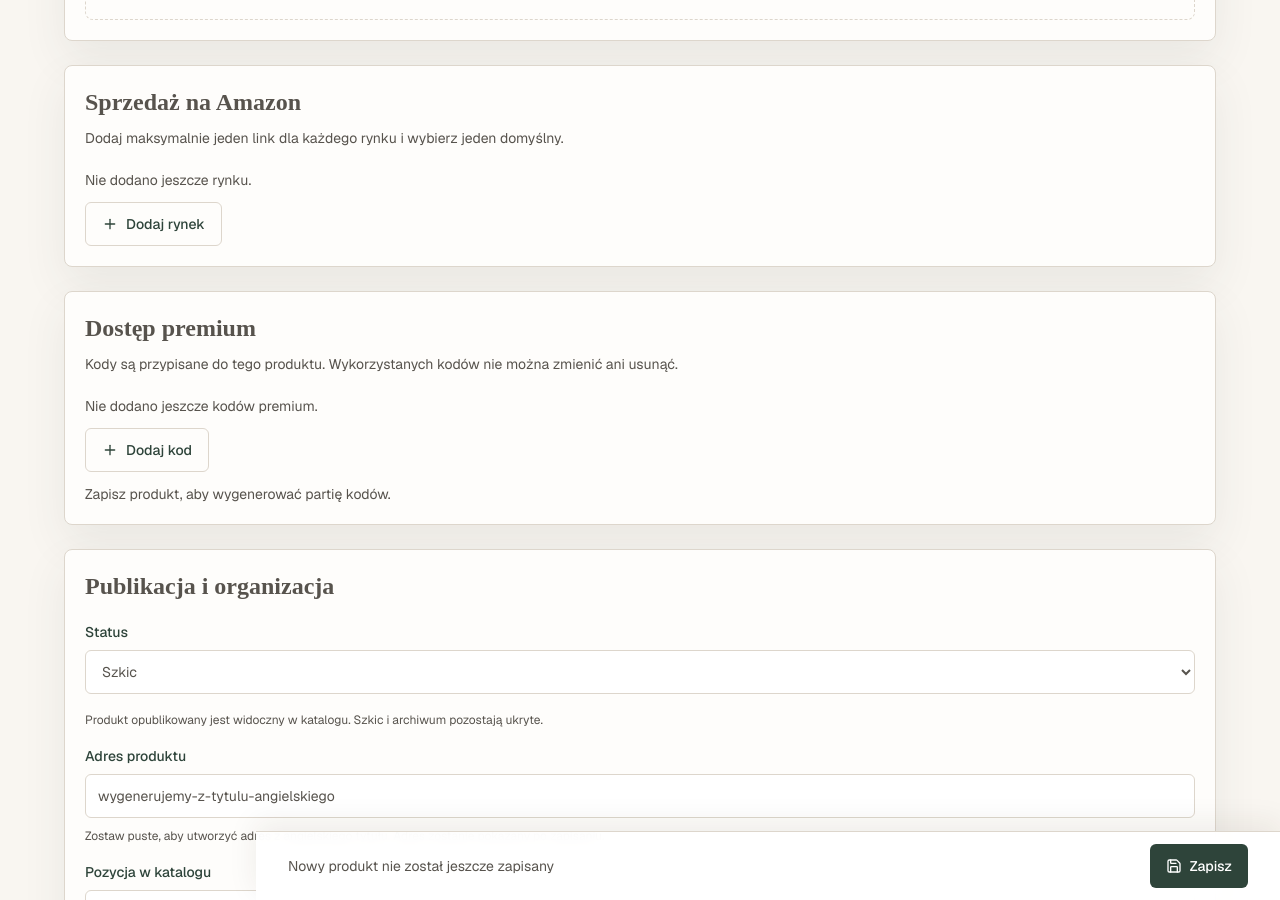
Test: ProductEditor V2 › blocks an empty premium code row before invoking the server action
This screenshot has width=1280, height=900.
(page scrolled)
Click the button "Dodaj kod" at (147,450), box [85, 428, 209, 472]
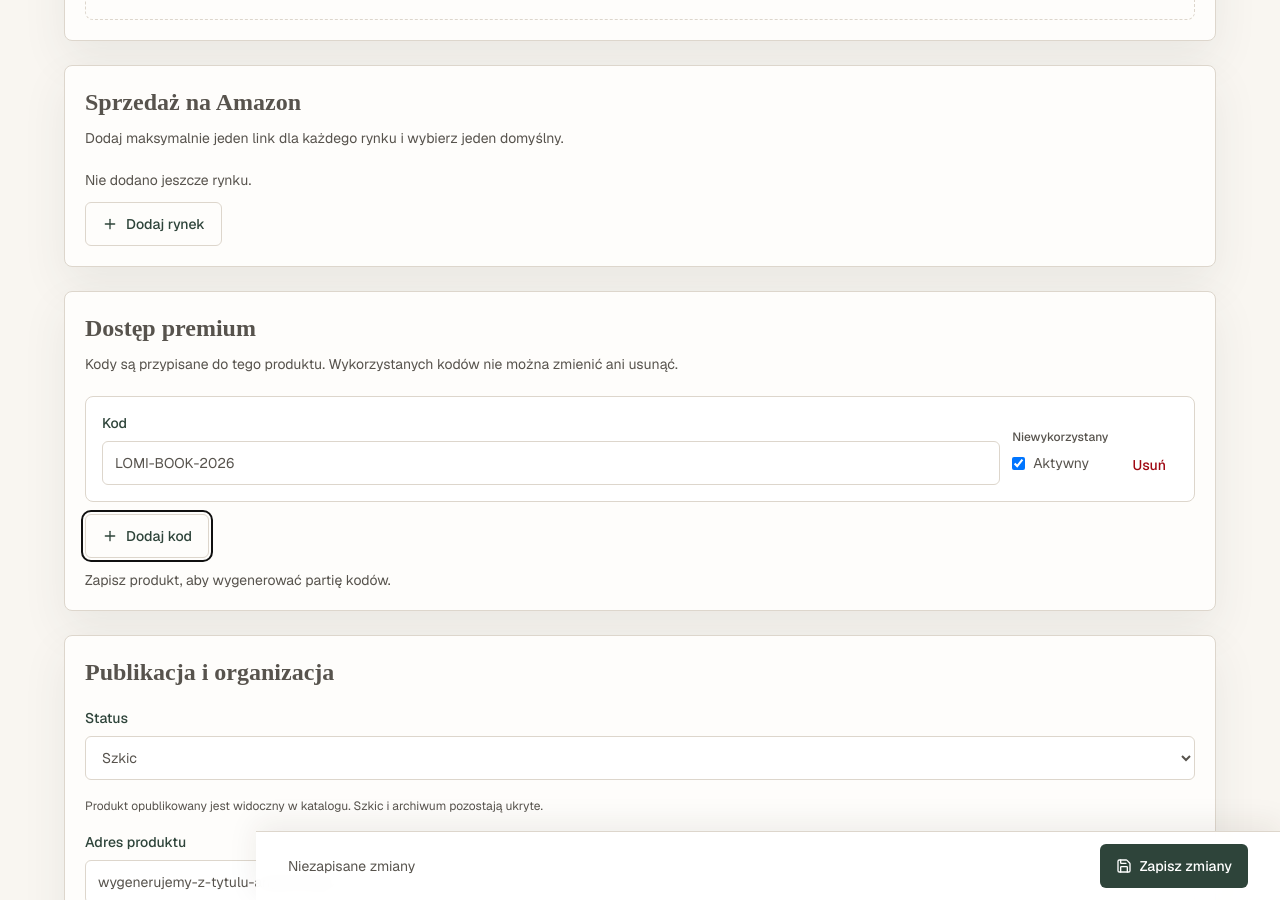
Click the button "Zapisz zmiany" at (1174,866), box [1100, 844, 1248, 888]
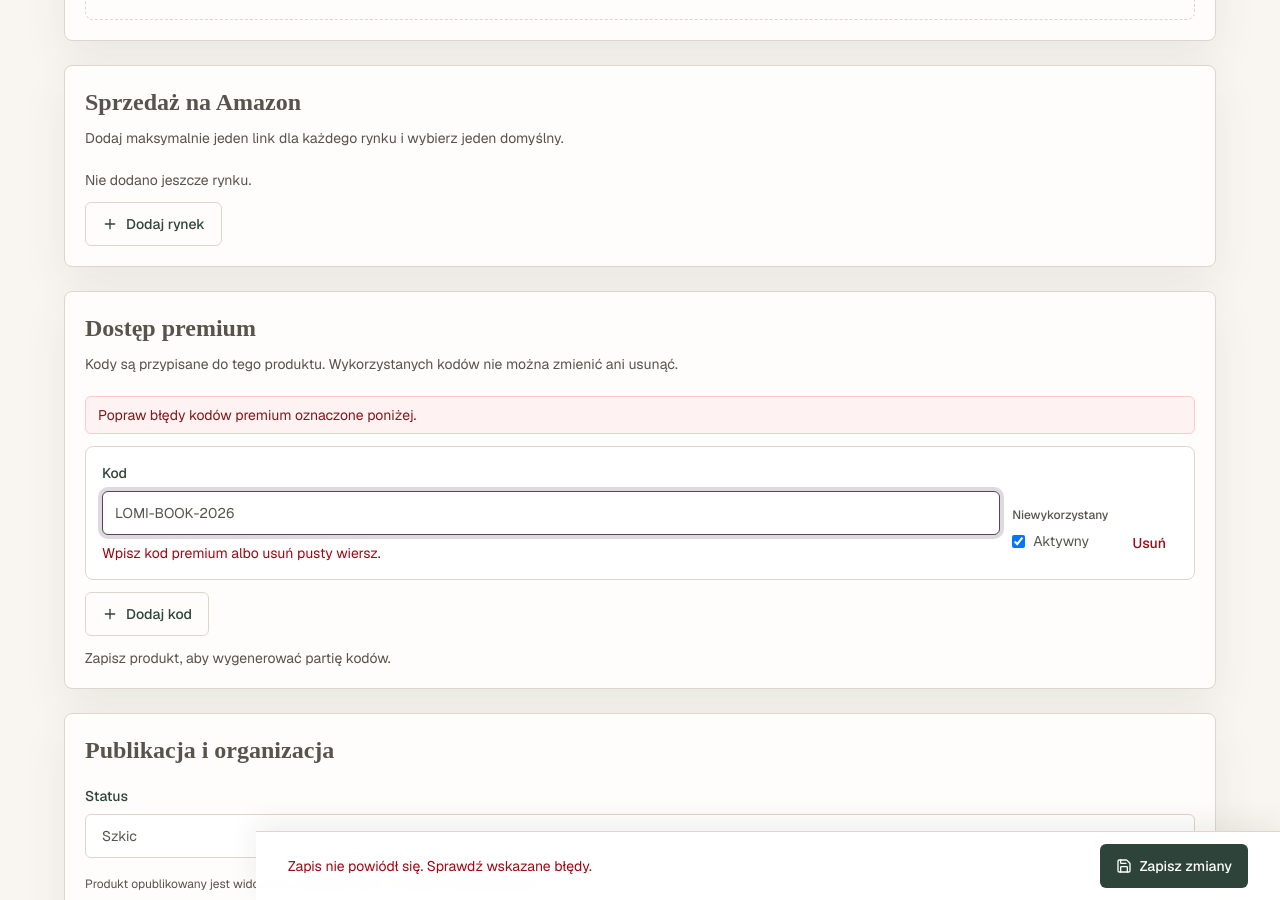
Result: the text "Wpisz kod premium albo usuń pusty wiersz." is shown at [102, 544, 381, 562]
